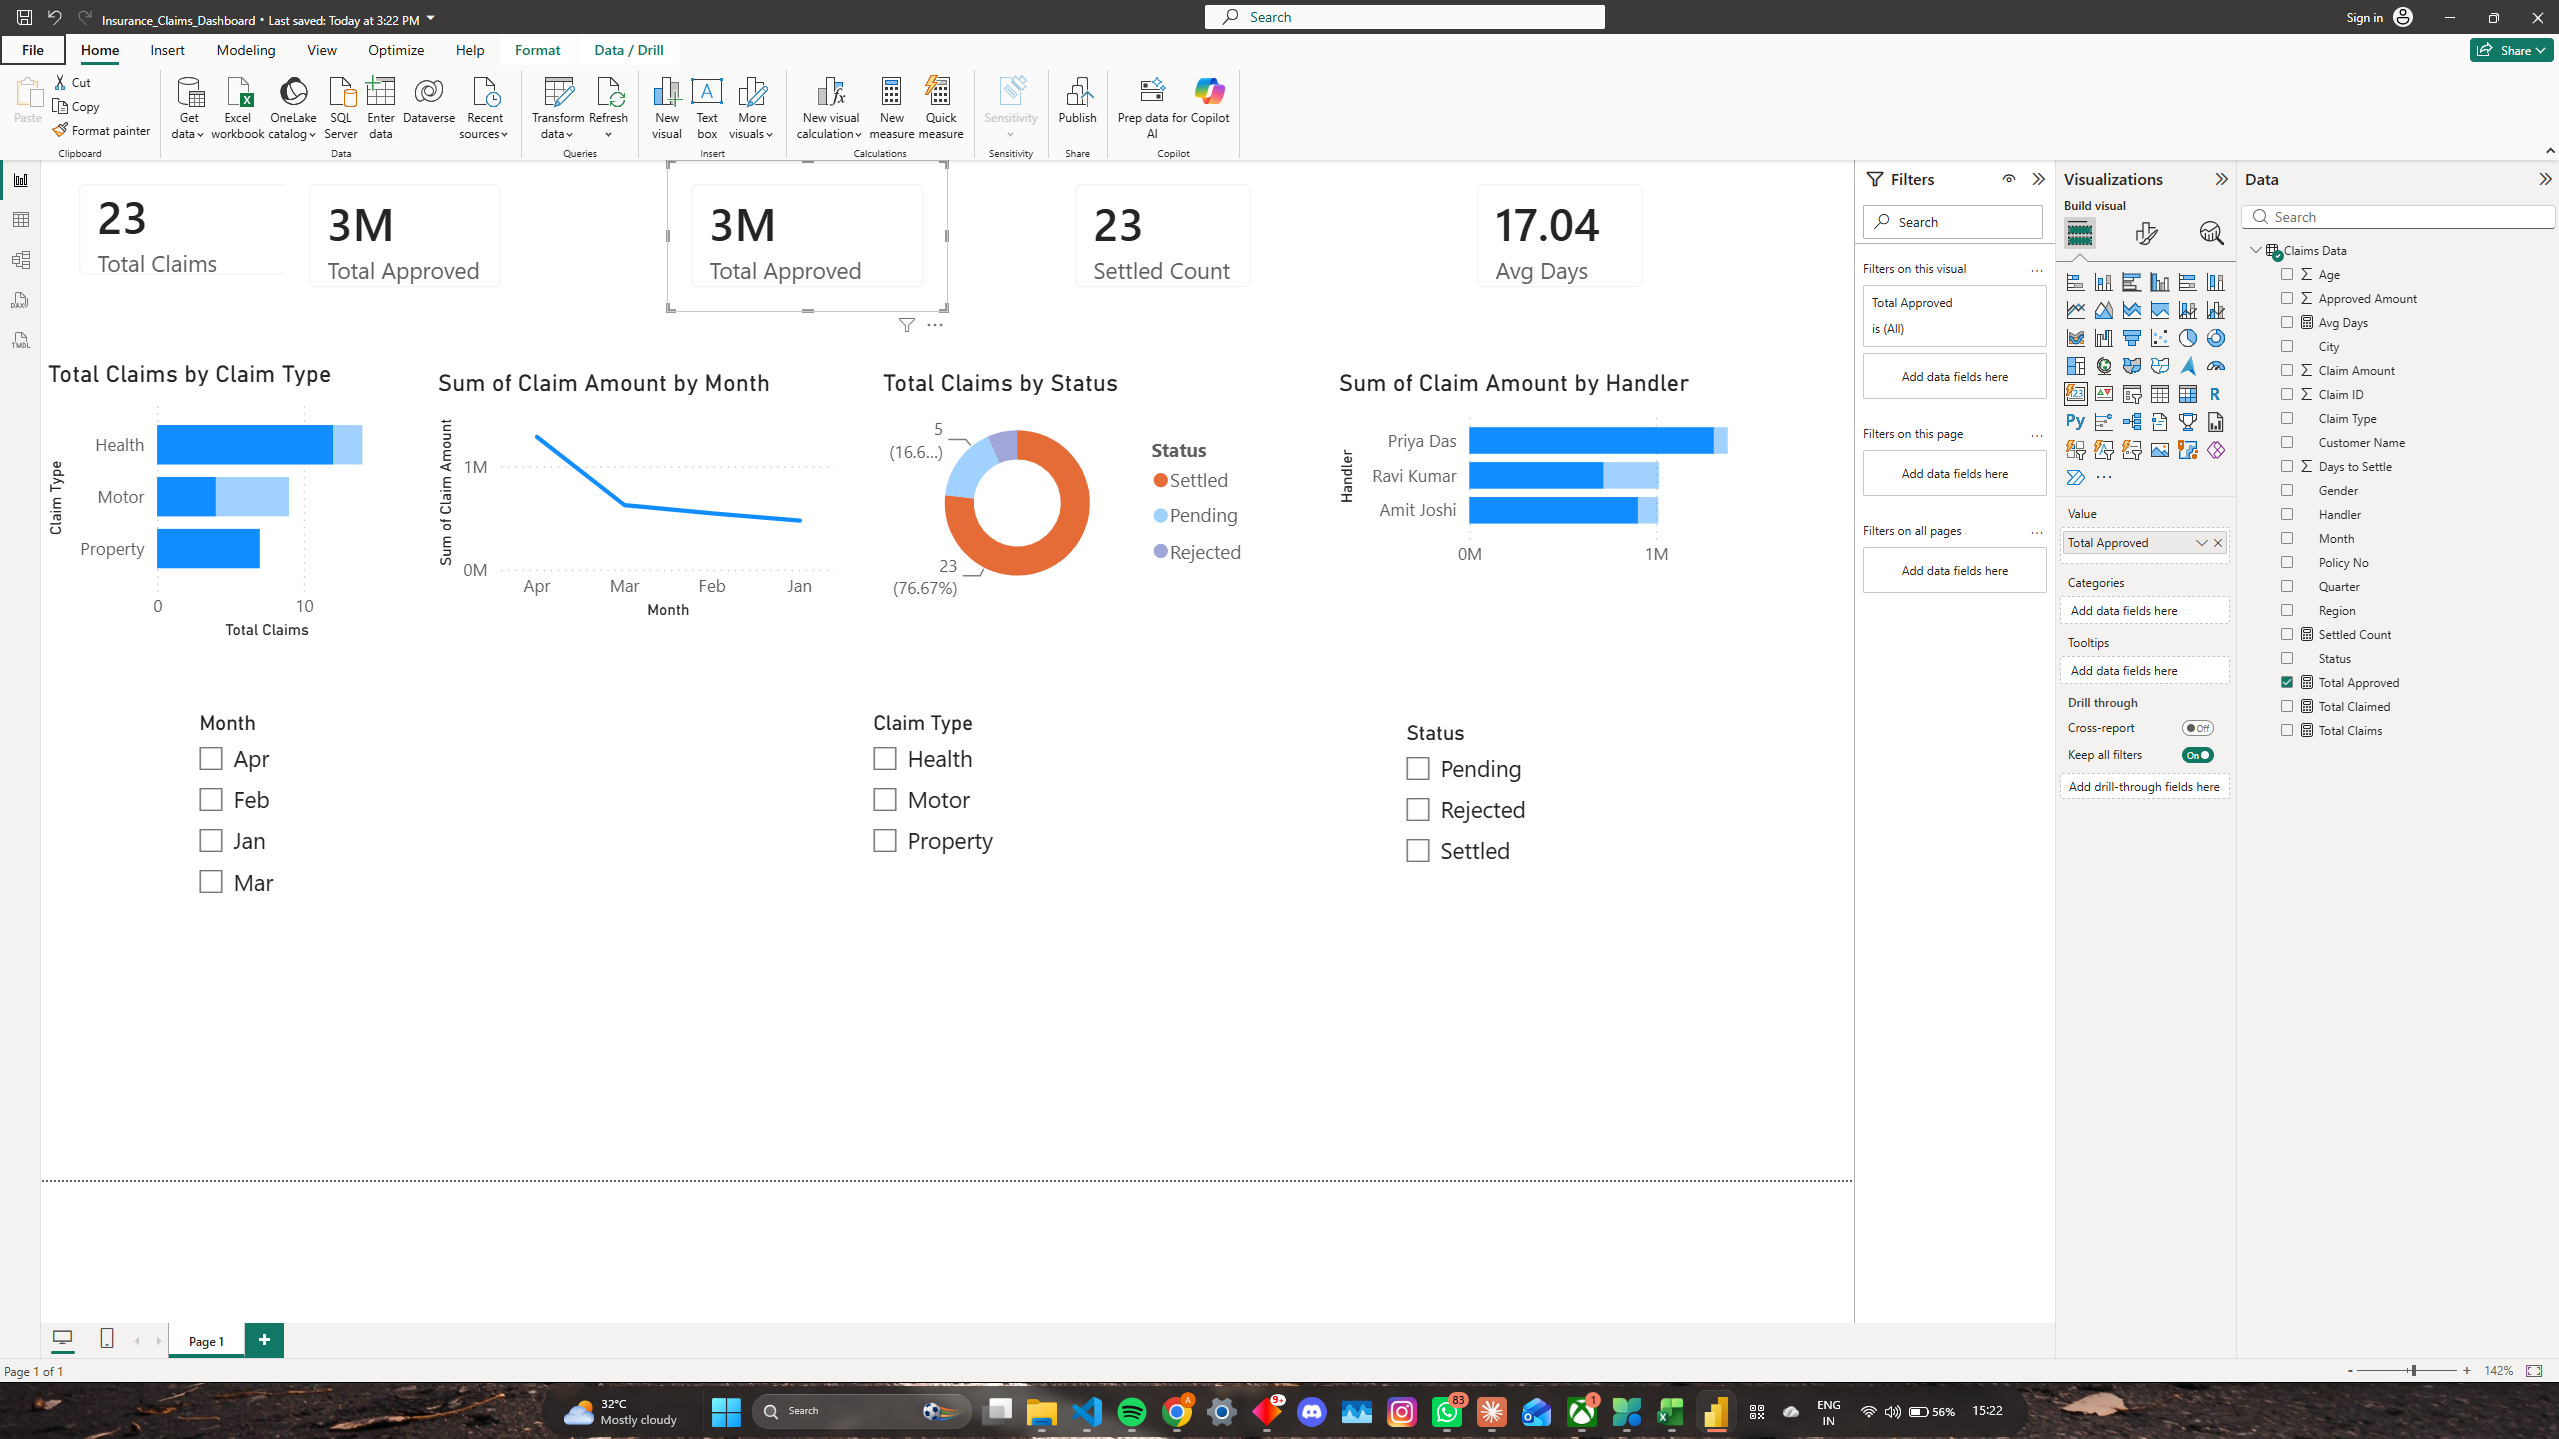

This screenshot's page, from the dashboard's own definition file:
{"tool":"powerbi","page":{"name":"Page 1","canvas":[1280,720],"ordinal":0},"visuals":[{"type":"cardVisual","fields":{"Data":["Claims Data.Total Claims"]},"box":[9.9,0,198.4,98.8],"z":0},{"type":"cardVisual","fields":{"Data":["Claims Data.Total Approved"]},"box":[172.3,0,169.4,107.3],"z":1},{"type":"cardVisual","fields":{"Data":["Claims Data.Settled Count"]},"box":[713.1,0,158.1,107.3],"z":2},{"type":"cardVisual","fields":{"Data":["Claims Data.Total Approved"]},"box":[442,0,198.4,107.3],"z":3},{"type":"cardVisual","fields":{"Data":["Claims Data.Avg Days"]},"box":[996.9,0,151.8,107.3],"z":4},{"type":"clusteredBarChart","fields":{"Category":["Claims Data.Claim Type"],"Y":["Claims Data.Total Claims"]},"box":[0,140.5,249.2,201.9],"z":5},{"type":"lineChart","fields":{"Category":["Claims Data.Month"],"Y":["Sum(Claims Data.Claim Amount)"]},"box":[275.3,146.9,290.2,181.4],"z":6},{"type":"donutChart","fields":{"Category":["Claims Data.Status"],"Y":["Claims Data.Total Claims"]},"box":[589.5,146.9,272.5,171.6],"z":7},{"type":"clusteredBarChart","fields":{"Category":["Claims Data.Handler"],"Y":["Sum(Claims Data.Claim Amount)"]},"box":[911.5,146.9,308.5,149.7],"z":8},{"type":"slicer","fields":{"Values":["Claims Data.Claim Type"]},"box":[574.7,384.8,197.7,150.4],"z":9},{"type":"slicer","fields":{"Values":["Claims Data.Month"]},"box":[98.8,384.8,197.7,149.7],"z":10},{"type":"slicer","fields":{"Values":["Claims Data.Status"]},"box":[951,391.8,197.7,150.4],"z":11}]}

Visuals, with their boxes on the page's 1280x720 design canvas (x1, y1, x2, y2). These are canvas units, not pixel positions in the 2559x1439 screenshot, which may show the page scaled, cropped or inside an application window:
cardVisual - Claims Data.Total Claims: left=10, top=0, right=208, bottom=99
cardVisual - Claims Data.Total Approved: left=172, top=0, right=342, bottom=107
cardVisual - Claims Data.Settled Count: left=713, top=0, right=871, bottom=107
cardVisual - Claims Data.Total Approved: left=442, top=0, right=640, bottom=107
cardVisual - Claims Data.Avg Days: left=997, top=0, right=1149, bottom=107
clusteredBarChart - Claims Data.Claim Type x Claims Data.Total Claims: left=0, top=140, right=249, bottom=342
lineChart - Claims Data.Month x Sum(Claims Data.Claim Amount): left=275, top=147, right=566, bottom=328
donutChart - Claims Data.Status x Claims Data.Total Claims: left=590, top=147, right=862, bottom=318
clusteredBarChart - Claims Data.Handler x Sum(Claims Data.Claim Amount): left=912, top=147, right=1220, bottom=297
slicer - Claims Data.Claim Type: left=575, top=385, right=772, bottom=535
slicer - Claims Data.Month: left=99, top=385, right=296, bottom=534
slicer - Claims Data.Status: left=951, top=392, right=1149, bottom=542
